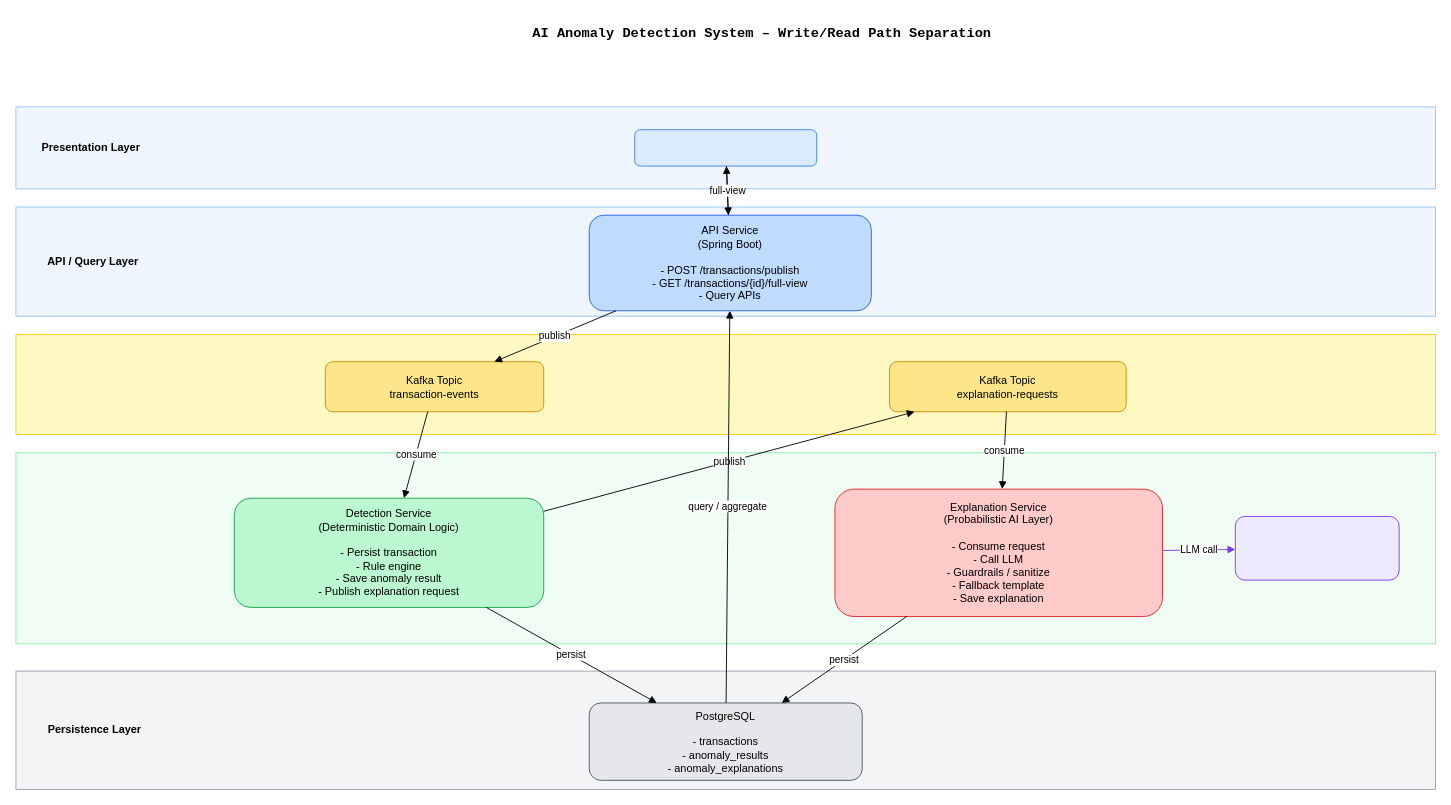
The diagram is 1451 pixels wide and 805 high, and some of its shapes have lost their labels. Here are the shapes that lost their labels. From the top down, the box of each, then its label:
(634, 129, 817, 166): Web UI (React / Vite)
(15, 334, 1436, 435): Event Bus Layer
(15, 452, 1436, 644): Domain Processing Layer
(1234, 516, 1399, 580): External AI Provider OpenAI API (gpt-4o-mini)
